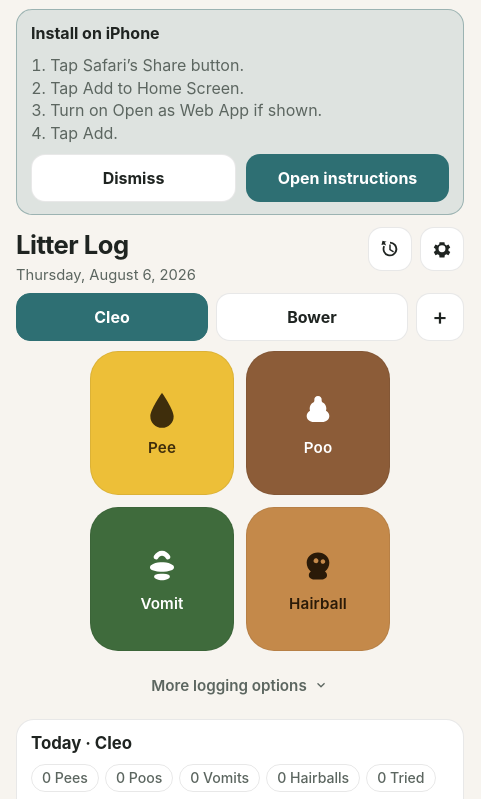
Test: final UI polish › keeps View All History as a quiet control that opens History
This screenshot has width=481, height=799.
Expected: the radio button labelled "Cleo" is shown, [16,293,208,341]
Click the button "Pee".
click(162, 423)  # box [90,351,234,495]
(page scrolled)
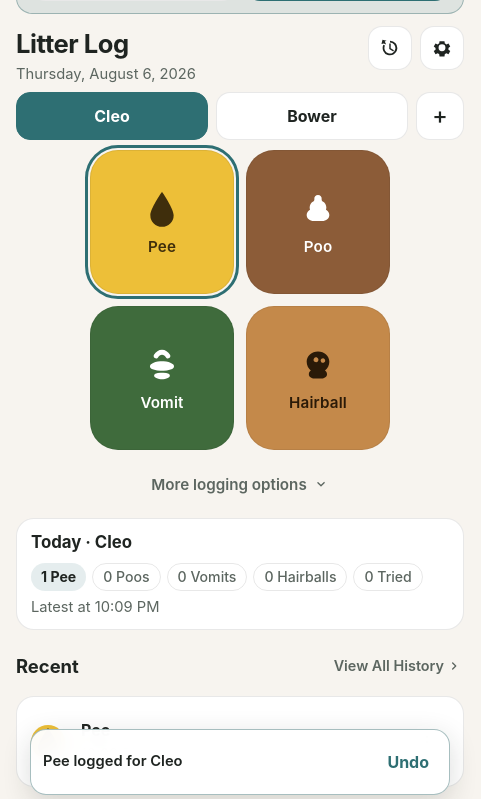
Click the button "View All History".
click(398, 666)  # box [332,644,464,688]
(page scrolled)
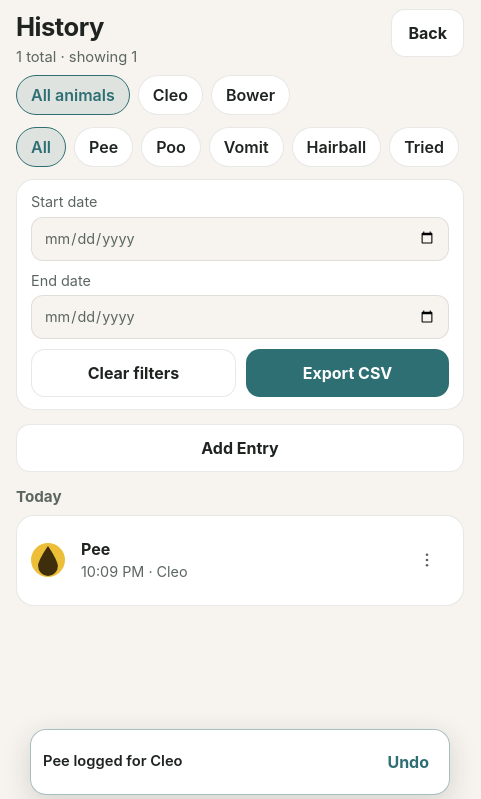
Expected: the heading "History" is shown, [16,11,104,42]
